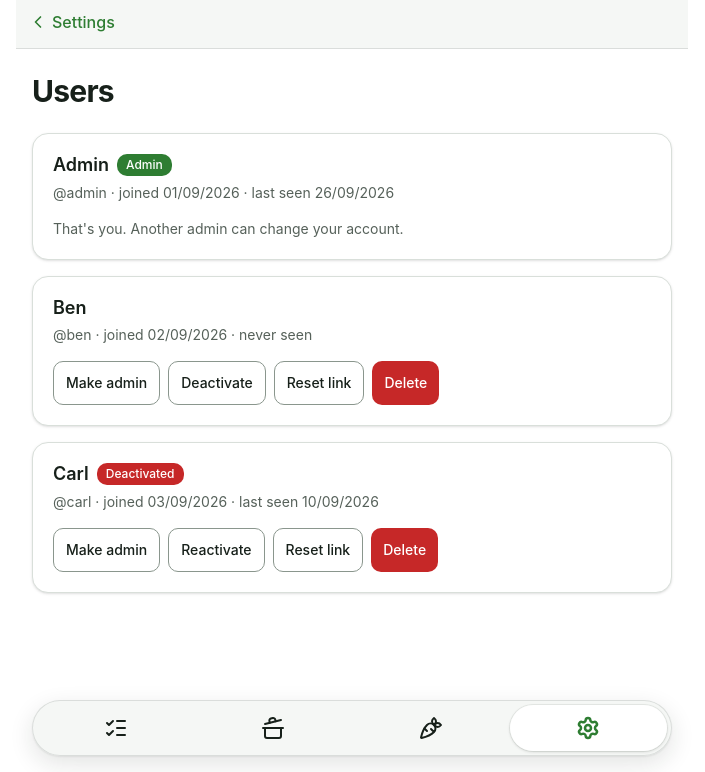
AdminUsersScreen › promotes a user
Expected: the list with test id "admin-user-list" is shown, [32, 133, 672, 592]
Click the button with aria-label "Make admin: Ben": (107, 383) [53, 361, 160, 405]
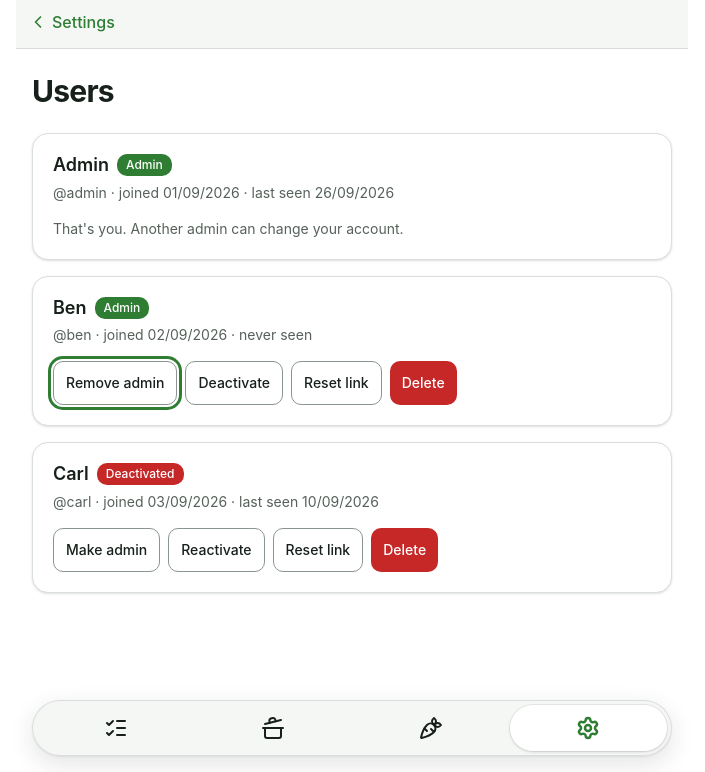
Expected: the button with aria-label "Remove admin rights from Ben" is shown, [53, 361, 178, 405]
